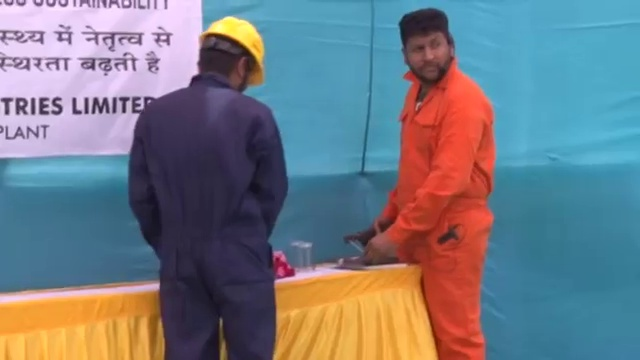helmet: (200, 14, 270, 86)
helmet_off: (398, 8, 457, 83)
helmet_on: (196, 13, 269, 95)
person: (125, 13, 290, 360), (358, 8, 497, 359)
